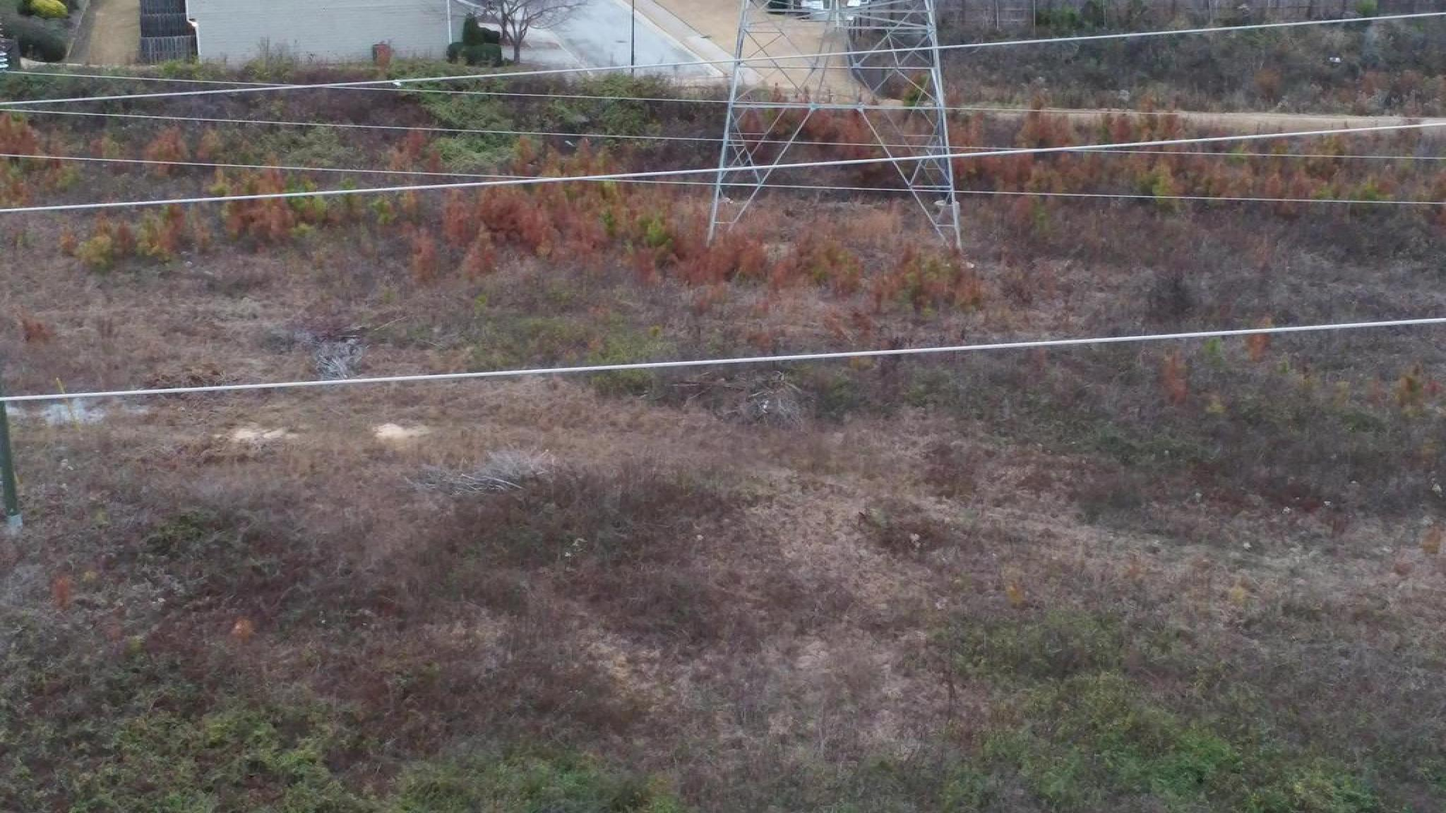tower: (702, 0, 971, 269)
